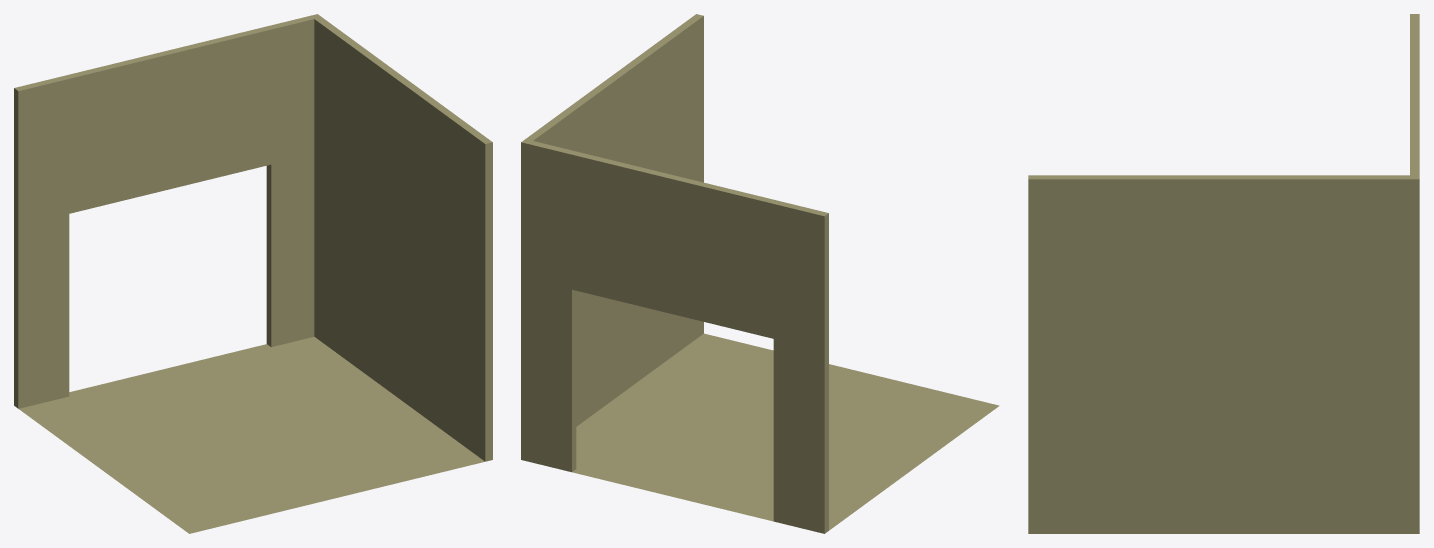
Rendered from HpolyFacCornerGSDoor01.glb.
3 views of the same model, side by side, from view 1: azimuth 30°, elevation 25°; view 2: azimuth 150°, elevation 25°; view 3: azimuth 270°, elevation 25° (orthographic). The views are drawn at different scales.
Parts seen in each view (by area): view 1: HpolyFacCornerGSDoor01-col; view 2: HpolyFacCornerGSDoor01-col; view 3: HpolyFacCornerGSDoor01-col.
Boxes of the visible parts, x1,y1,x2,y2 form: HpolyFacCornerGSDoor01-col: (14, 14, 492, 533); HpolyFacCornerGSDoor01-col: (521, 14, 999, 533); HpolyFacCornerGSDoor01-col: (1028, 14, 1419, 533).
Size of the model in its own units: 4 by 4 by 4.
